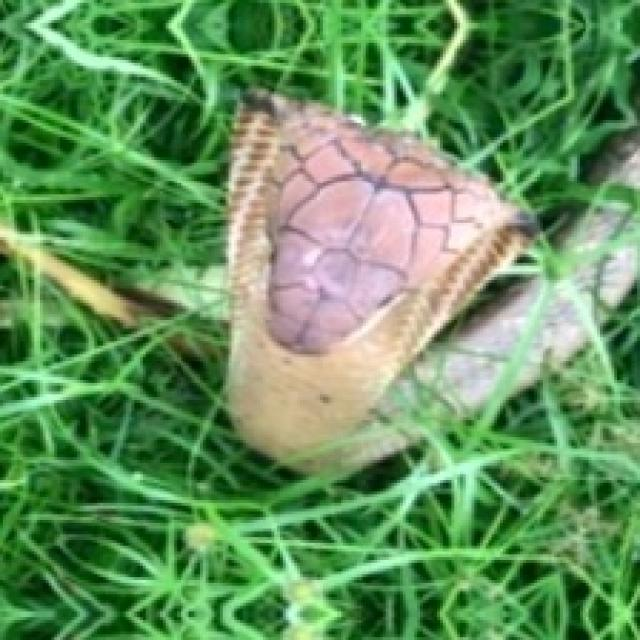king cobra: (226, 91, 637, 471)
